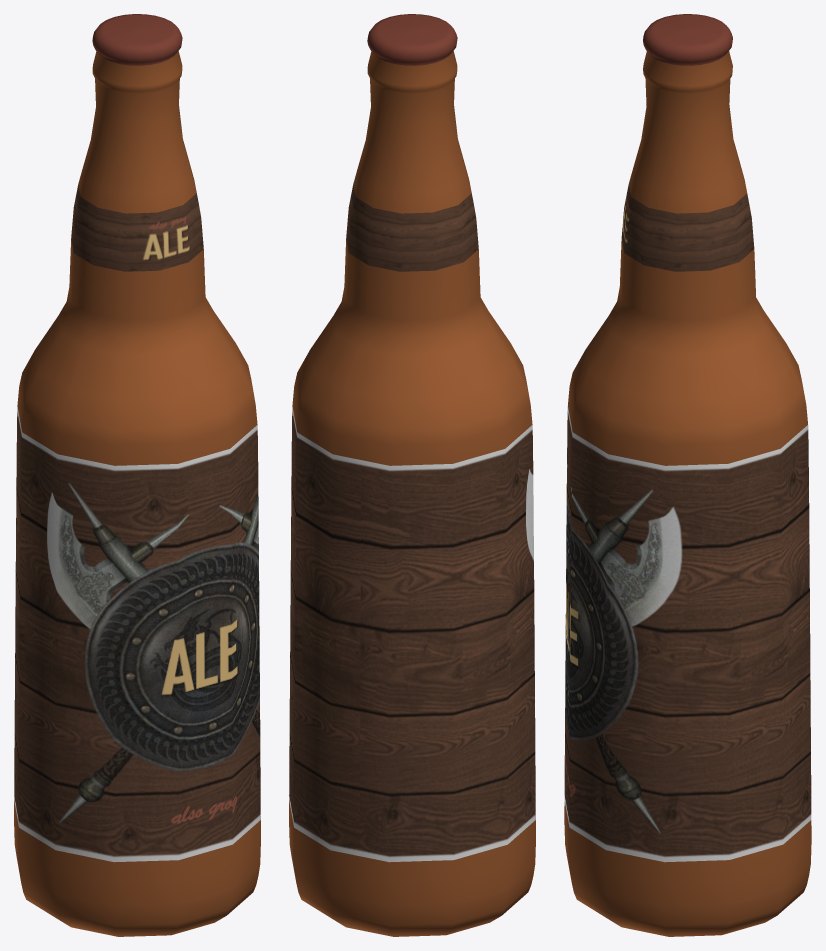
File: beerbottle.fbx
3 renders of one model, left to right at view 1: azimuth 30°, elevation 25°; view 2: azimuth 150°, elevation 25°; view 3: azimuth 270°, elevation 25°, orthographic.
Parts seen in each view (by area): view 1: beerbottle; view 2: beerbottle; view 3: beerbottle.
Boxes of the visible parts, <box> form: beerbottle: <box>14,14,260,936</box>; beerbottle: <box>289,14,535,936</box>; beerbottle: <box>564,14,811,936</box>.
Bounding box in the file's own units: 5.88 × 23.03 × 5.88.
1 material, 1 textured.
